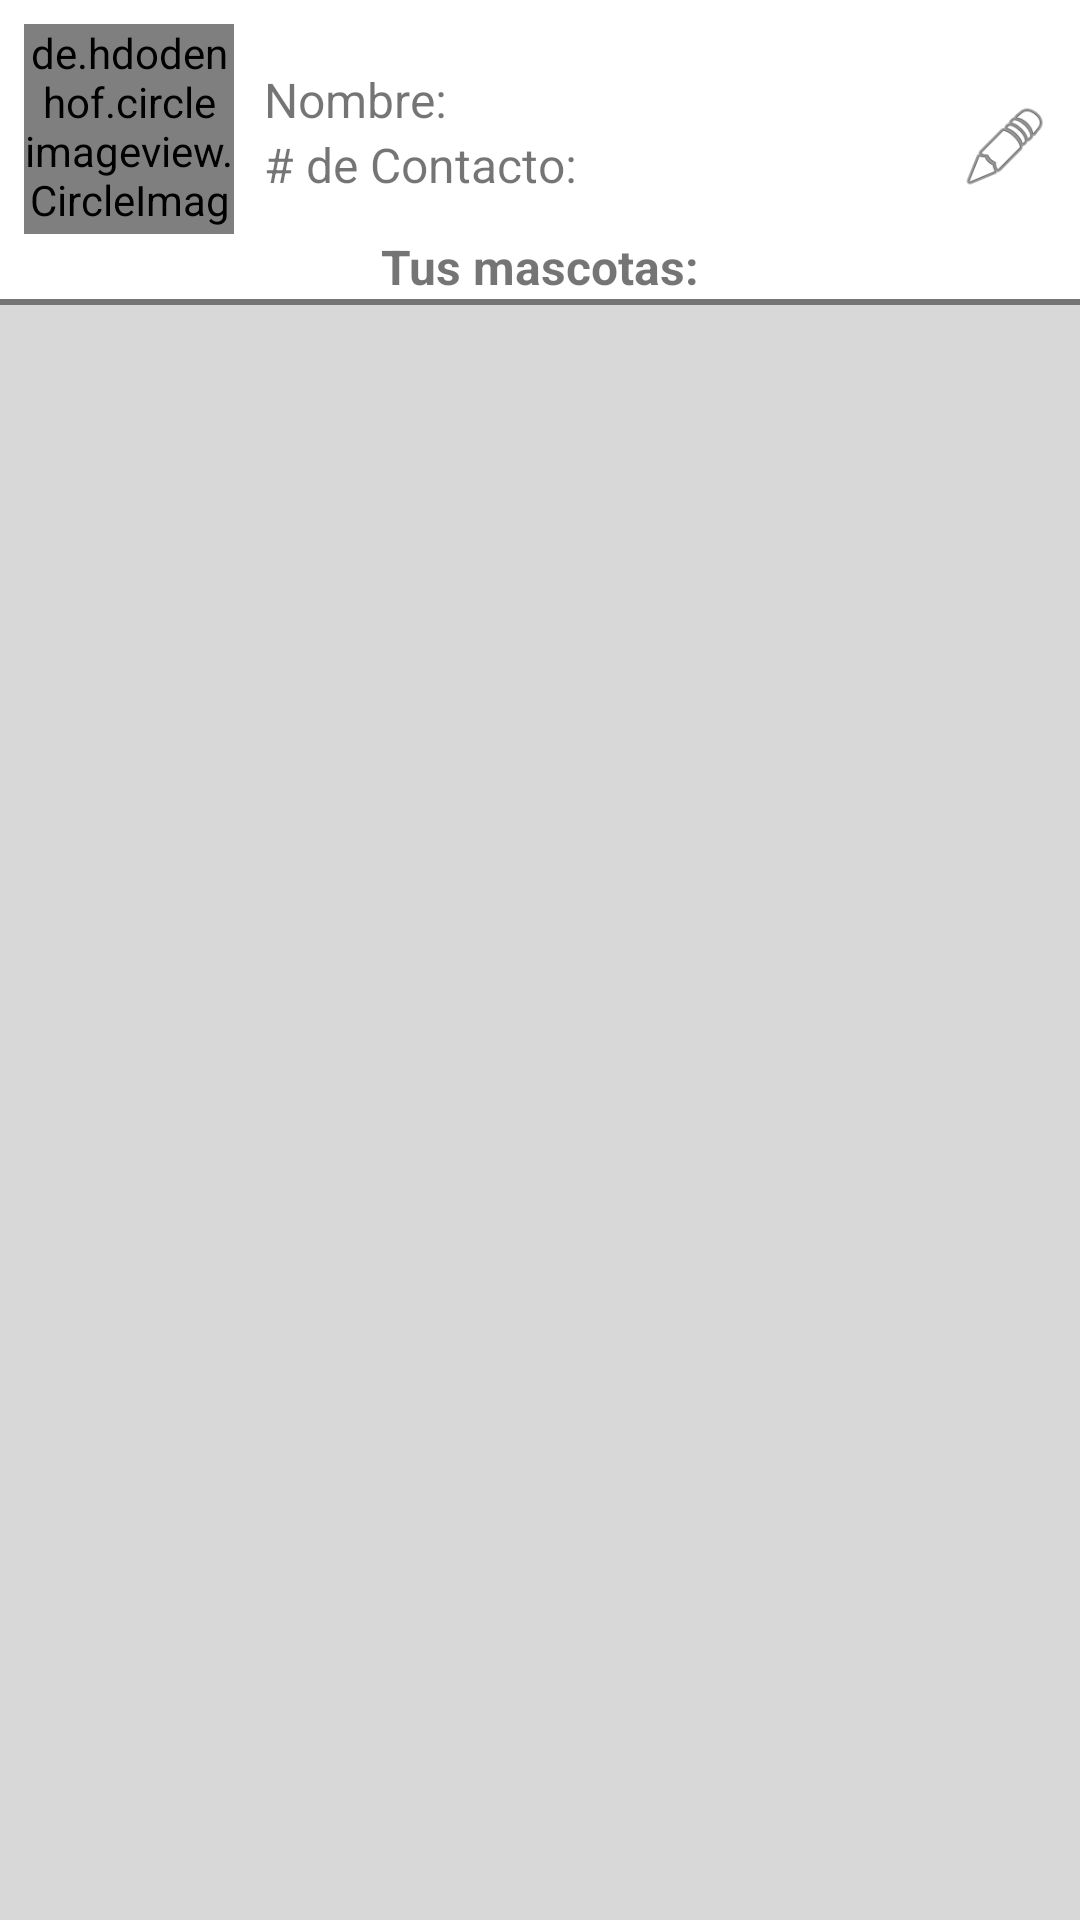

Named icons in this screenshot (1080 × 1920) and their centers, (x,y):
edit: (1004,146)
